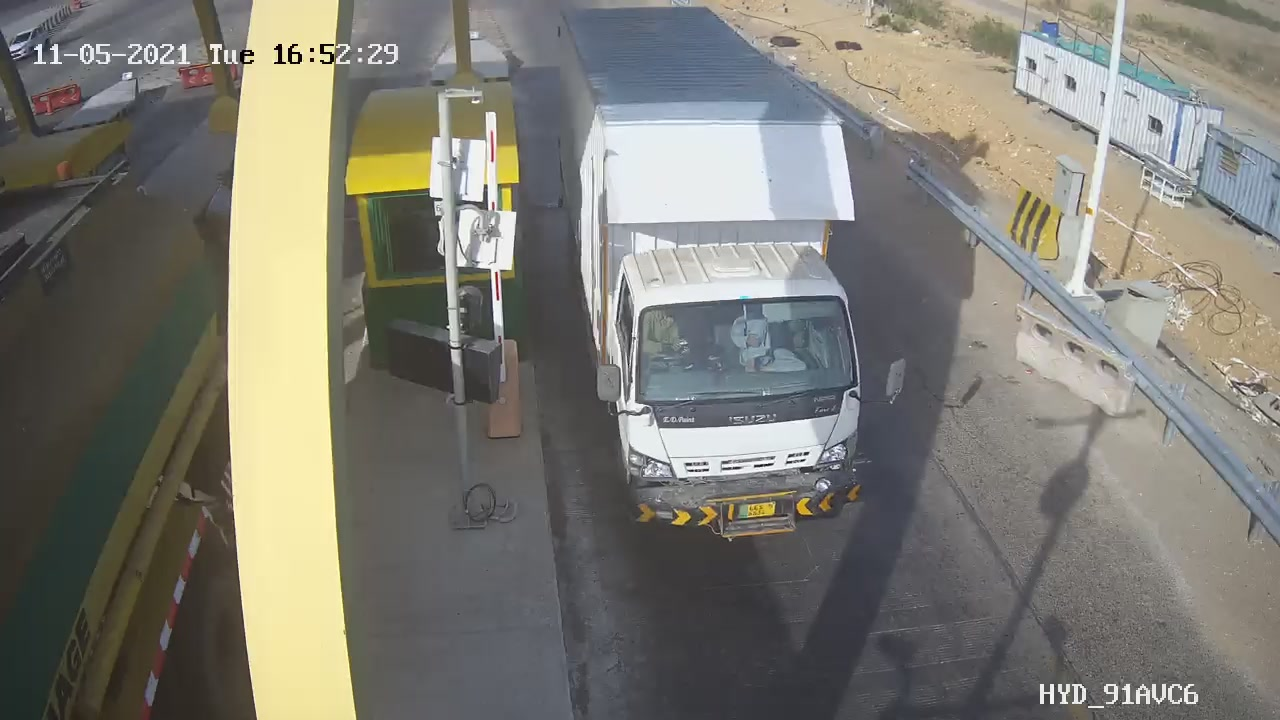F5: (526, 1, 940, 564)
